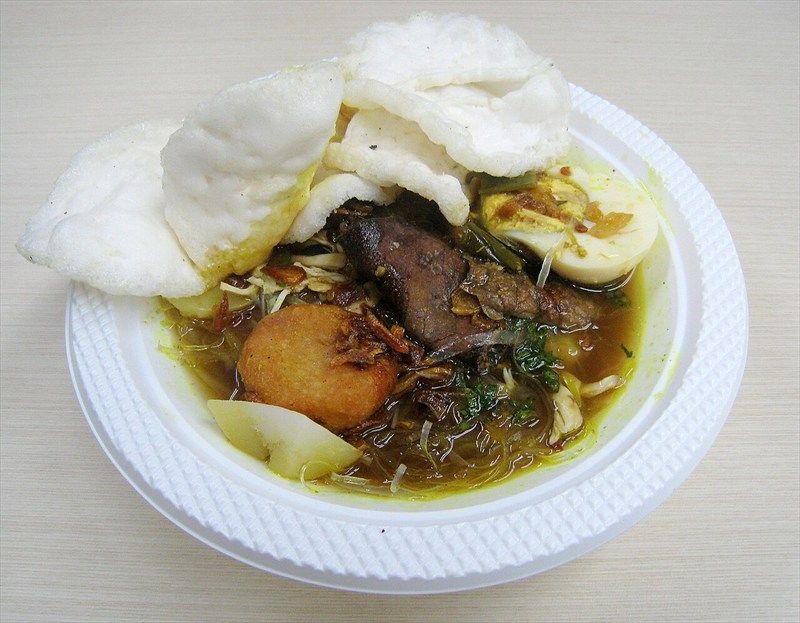Soto Ayam: (182, 165, 638, 494)
